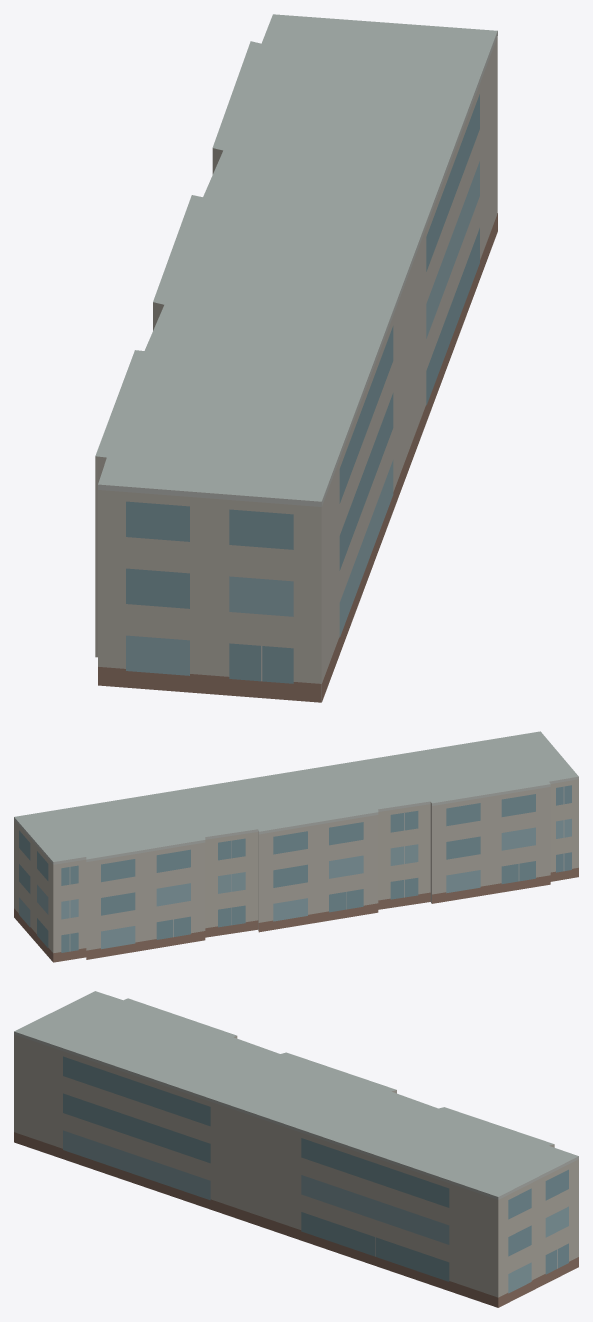
File: survey-upis-32769221.glb
3 renders of one model, top to bottom at view 1: azimuth 30°, elevation 25°; view 2: azimuth 150°, elevation 25°; view 3: azimuth 270°, elevation 25°, orthographic. The views are drawn at different scales.
Parts seen in each view (by area): view 1: survey-upis-32769221.tmp; view 2: survey-upis-32769221.tmp; view 3: survey-upis-32769221.tmp.
Part boxes in pixels (<box>): survey-upis-32769221.tmp: <box>95,14,497,702</box>; survey-upis-32769221.tmp: <box>14,731,578,962</box>; survey-upis-32769221.tmp: <box>14,991,578,1307</box>.
Size of the model in its own units: 36.45 by 9.15 by 42.24.
